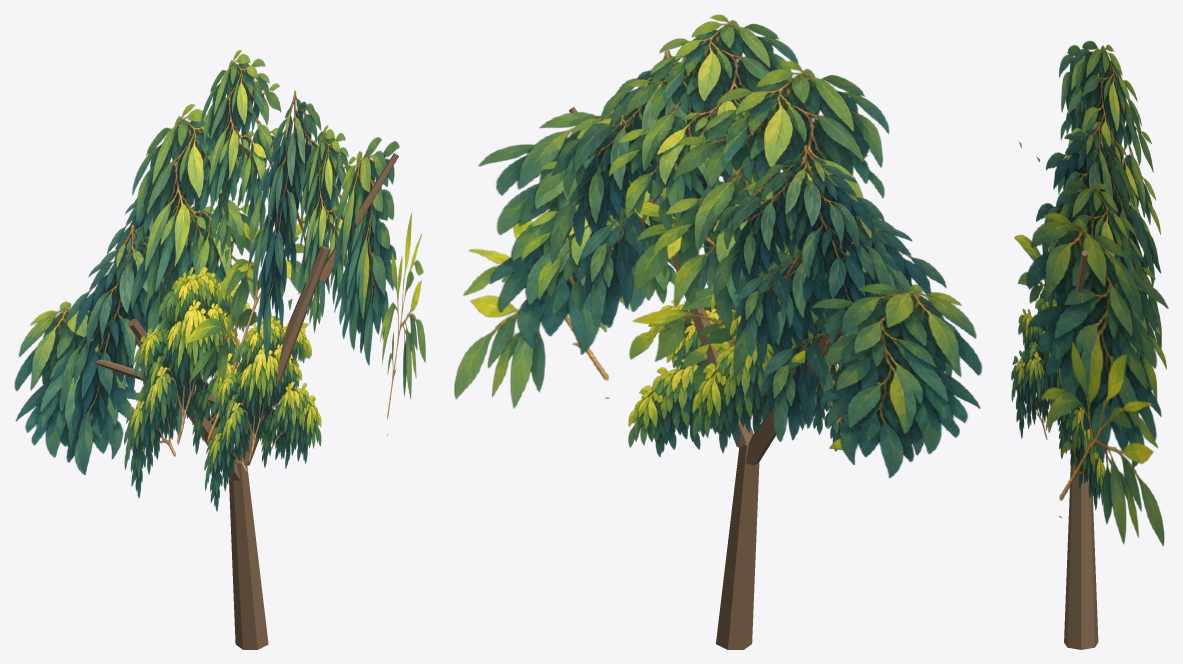
File: TREE_EUCALYPTUS_COASTAL_002@2.0.0_LOD_CLOSE.glb
3 views of the same model, side by side, from view 1: azimuth 30°, elevation 25°; view 2: azimuth 150°, elevation 25°; view 3: azimuth 270°, elevation 25° (orthographic). The views are drawn at different scales.
Parts seen in each view (by area): view 1: GG_TREE_EUCALYPTUS_COASTAL_002_CARD_01, GG_TREE_EUCALYPTUS_COASTAL_002_CARD_05, GG_TREE_EUCALYPTUS_COASTAL_002_CARD_11, GG_TREE_EUCALYPTUS_COASTAL_002_CARD_00, GG_TREE_EUCALYPTUS_COASTAL_002_CARD_07, GG_TREE_EUCALYPTUS_COASTAL_002_CARD_03, GG_TREE_EUCALYPTUS_COASTAL_002_CARD_02, GG_TREE_EUCALYPTUS_COASTAL_002_CARD_06, GG_TREE_EUCALYPTUS_COASTAL_002_CARD_10, GG_TREE_EUCALYPTUS_COASTAL_002_CARD_08, GG_TREE_EUCALYPTUS_COASTAL_002_LOCKED_STRUCTURE_00, GG_TREE_EUCALYPTUS_COASTAL_002_CARD_04 (+4 smaller); view 2: GG_TREE_EUCALYPTUS_COASTAL_002_CARD_01, GG_TREE_EUCALYPTUS_COASTAL_002_CARD_06, GG_TREE_EUCALYPTUS_COASTAL_002_CARD_09, GG_TREE_EUCALYPTUS_COASTAL_002_CARD_07, GG_TREE_EUCALYPTUS_COASTAL_002_CARD_02, GG_TREE_EUCALYPTUS_COASTAL_002_CARD_03, GG_TREE_EUCALYPTUS_COASTAL_002_CARD_00, GG_TREE_EUCALYPTUS_COASTAL_002_CARD_11, GG_TREE_EUCALYPTUS_COASTAL_002_CARD_05, GG_TREE_EUCALYPTUS_COASTAL_002_CARD_04, GG_TREE_EUCALYPTUS_COASTAL_002_CARD_08, GG_TREE_EUCALYPTUS_COASTAL_002_LOCKED_STRUCTURE_00 (+3 smaller); view 3: GG_TREE_EUCALYPTUS_COASTAL_002_CARD_03, GG_TREE_EUCALYPTUS_COASTAL_002_CARD_04, GG_TREE_EUCALYPTUS_COASTAL_002_CARD_07, GG_TREE_EUCALYPTUS_COASTAL_002_CARD_02, GG_TREE_EUCALYPTUS_COASTAL_002_CARD_11, GG_TREE_EUCALYPTUS_COASTAL_002_LOCKED_STRUCTURE_00, GG_TREE_EUCALYPTUS_COASTAL_002_CARD_10, GG_TREE_EUCALYPTUS_COASTAL_002_CARD_01, GG_TREE_EUCALYPTUS_COASTAL_002_CARD_08, GG_TREE_EUCALYPTUS_COASTAL_002_LOCKED_STRUCTURE_03.
Boxes of the visible parts, left/top/right/bottom form: GG_TREE_EUCALYPTUS_COASTAL_002_CARD_01: left=130, top=104, right=259, bottom=332; GG_TREE_EUCALYPTUS_COASTAL_002_CARD_05: left=124, top=243, right=263, bottom=498; GG_TREE_EUCALYPTUS_COASTAL_002_CARD_11: left=204, top=298, right=321, bottom=511; GG_TREE_EUCALYPTUS_COASTAL_002_CARD_00: left=52, top=224, right=193, bottom=472; GG_TREE_EUCALYPTUS_COASTAL_002_CARD_07: left=200, top=50, right=283, bottom=256; GG_TREE_EUCALYPTUS_COASTAL_002_CARD_03: left=333, top=137, right=399, bottom=365; GG_TREE_EUCALYPTUS_COASTAL_002_CARD_02: left=248, top=90, right=339, bottom=362; GG_TREE_EUCALYPTUS_COASTAL_002_CARD_06: left=14, top=301, right=138, bottom=474; GG_TREE_EUCALYPTUS_COASTAL_002_CARD_10: left=298, top=125, right=355, bottom=332; GG_TREE_EUCALYPTUS_COASTAL_002_CARD_08: left=185, top=200, right=310, bottom=443; GG_TREE_EUCALYPTUS_COASTAL_002_LOCKED_STRUCTURE_00: left=229, top=462, right=268, bottom=649; GG_TREE_EUCALYPTUS_COASTAL_002_CARD_04: left=380, top=212, right=425, bottom=436; GG_TREE_EUCALYPTUS_COASTAL_002_CARD_01: left=653, top=61, right=889, bottom=329; GG_TREE_EUCALYPTUS_COASTAL_002_CARD_06: left=811, top=283, right=982, bottom=477; GG_TREE_EUCALYPTUS_COASTAL_002_CARD_09: left=713, top=145, right=899, bottom=363; GG_TREE_EUCALYPTUS_COASTAL_002_CARD_07: left=609, top=14, right=798, bottom=230; GG_TREE_EUCALYPTUS_COASTAL_002_CARD_02: left=550, top=50, right=735, bottom=327; GG_TREE_EUCALYPTUS_COASTAL_002_CARD_03: left=478, top=112, right=669, bottom=354; GG_TREE_EUCALYPTUS_COASTAL_002_CARD_00: left=733, top=195, right=960, bottom=455; GG_TREE_EUCALYPTUS_COASTAL_002_CARD_11: left=628, top=266, right=847, bottom=456; GG_TREE_EUCALYPTUS_COASTAL_002_CARD_05: left=692, top=242, right=845, bottom=453; GG_TREE_EUCALYPTUS_COASTAL_002_CARD_04: left=454, top=220, right=629, bottom=408; GG_TREE_EUCALYPTUS_COASTAL_002_CARD_08: left=625, top=155, right=868, bottom=393; GG_TREE_EUCALYPTUS_COASTAL_002_LOCKED_STRUCTURE_00: left=716, top=443, right=759, bottom=649; GG_TREE_EUCALYPTUS_COASTAL_002_CARD_03: left=1026, top=212, right=1168, bottom=467; GG_TREE_EUCALYPTUS_COASTAL_002_CARD_04: left=1040, top=341, right=1164, bottom=546; GG_TREE_EUCALYPTUS_COASTAL_002_CARD_07: left=1073, top=41, right=1160, bottom=234; GG_TREE_EUCALYPTUS_COASTAL_002_CARD_02: left=1036, top=121, right=1161, bottom=367; GG_TREE_EUCALYPTUS_COASTAL_002_CARD_11: left=1011, top=298, right=1105, bottom=510; GG_TREE_EUCALYPTUS_COASTAL_002_LOCKED_STRUCTURE_00: left=1064, top=454, right=1098, bottom=649; GG_TREE_EUCALYPTUS_COASTAL_002_CARD_10: left=1054, top=180, right=1166, bottom=399; GG_TREE_EUCALYPTUS_COASTAL_002_CARD_01: left=1058, top=45, right=1130, bottom=203; GG_TREE_EUCALYPTUS_COASTAL_002_CARD_08: left=1014, top=142, right=1058, bottom=303; GG_TREE_EUCALYPTUS_COASTAL_002_LOCKED_STRUCTURE_03: left=1075, top=250, right=1087, bottom=293.
Size of the model in its own units: 33.34 by 41.64 by 9.93.
Materials: 2 (1 with a texture image).
